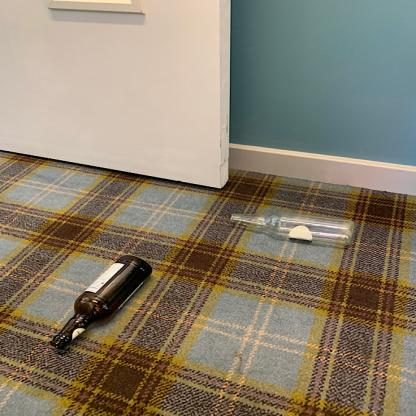trash: (45, 253, 154, 353), (227, 209, 358, 245)
